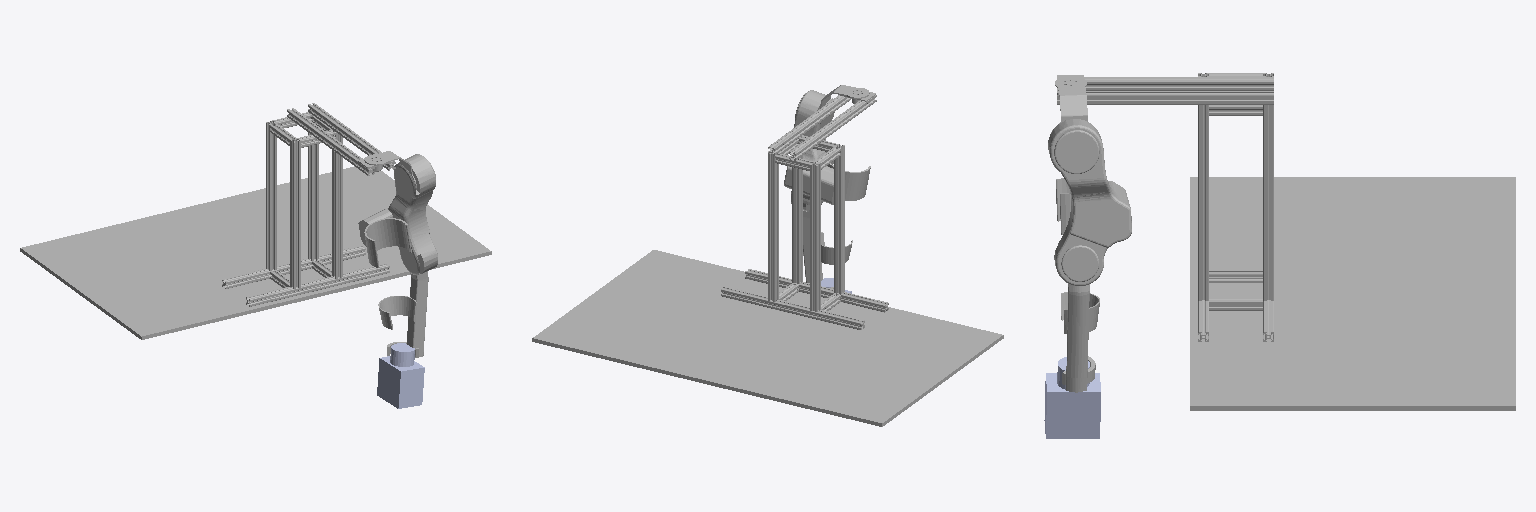
The robot description file, URDF, robot "rehab_arm_robot":
<?xml version="1.0" encoding="utf-8"?>
<!-- This URDF was automatically created by SolidWorks to URDF Exporter! Originally created by [author] ([email redacted]) 
     Commit Version: 1.6.0-4-g7f85cfe  Build Version: 1.6.7995.38578
     For more information, please see http://wiki.ros.org/sw_urdf_exporter -->
<robot
  name="rehab_arm_robot">
  <link
    name="base_link">
    <inertial>
      <origin
        xyz="0.029788 -0.044895 -0.025928"
        rpy="0 0 0" />
      <mass
        value="6.6256" />
      <inertia
        ixx="0.18532"
        ixy="3.2441E-17"
        ixz="-6.848E-18"
        iyy="0.5053"
        iyz="1.2064E-17"
        izz="0.68358" />
    </inertial>
    <visual>
      <origin
        xyz="0 0 0"
        rpy="0 0 0" />
      <geometry>
        <mesh
          filename="package://rehab_arm_robot/meshes/base_link.STL" />
      </geometry>
      <material
        name="">
        <color
          rgba="0.75294 0.75294 0.75294 1" />
      </material>
    </visual>
    <collision>
      <origin
        xyz="0 0 0"
        rpy="0 0 0" />
      <geometry>
        <mesh
          filename="package://rehab_arm_robot/meshes/base_link.STL" />
      </geometry>
    </collision>
  </link>
  <link
    name="shoulder_link">
    <inertial>
      <origin
        xyz="-1.1102E-16 -0.057517 0.098111"
        rpy="0 0 0" />
      <mass
        value="0.050013" />
      <inertia
        ixx="9.5931E-05"
        ixy="-1.2282E-19"
        ixz="-2.1663E-19"
        iyy="6.7571E-05"
        iyz="-3.5649E-05"
        izz="4.7153E-05" />
    </inertial>
    <visual>
      <origin
        xyz="0 0 0"
        rpy="0 0 0" />
      <geometry>
        <mesh
          filename="package://rehab_arm_robot/meshes/shoulder_link.STL" />
      </geometry>
      <material
        name="">
        <color
          rgba="0.75294 0.75294 0.75294 1" />
      </material>
    </visual>
    <collision>
      <origin
        xyz="0 0 0"
        rpy="0 0 0" />
      <geometry>
        <mesh
          filename="package://rehab_arm_robot/meshes/shoulder_link.STL" />
      </geometry>
    </collision>
  </link>
  <joint
    name="base_joint"
    type="revolute">
    <origin
      xyz="0.0719496042388023 -0.541555143198902 0.267693516942176"
      rpy="-0.174532925199427 0 1.6460476242513" />
    <parent
      link="base_link" />
    <child
      link="shoulder_link" />
    <axis
      xyz="0 0.173648177666925 -0.984807753012209" />
    <limit
      lower="0"
      upper="0"
      effort="0"
      velocity="0" />
  </joint>
  <link
    name="upper_arm_link">
    <inertial>
      <origin
        xyz="-0.025772 0.09796 -0.11257"
        rpy="0 0 0" />
      <mass
        value="2.0719" />
      <inertia
        ixx="0.014827"
        ixy="-0.00117"
        ixz="-0.0011721"
        iyy="0.014917"
        iyz="-0.0019872"
        izz="0.0049095" />
    </inertial>
    <visual>
      <origin
        xyz="0 0 0"
        rpy="0 0 0" />
      <geometry>
        <mesh
          filename="package://rehab_arm_robot/meshes/upper_arm_link.STL" />
      </geometry>
      <material
        name="">
        <color
          rgba="0.75294 0.75294 0.75294 1" />
      </material>
    </visual>
    <collision>
      <origin
        xyz="0 0 0"
        rpy="0 0 0" />
      <geometry>
        <mesh
          filename="package://rehab_arm_robot/meshes/upper_arm_link.STL" />
      </geometry>
    </collision>
  </link>
  <joint
    name="shoulder_joint"
    type="revolute">
    <origin
      xyz="0 0 0.0361684029192207"
      rpy="0 0.0173771635808177 -3.14159265358979" />
    <parent
      link="shoulder_link" />
    <child
      link="upper_arm_link" />
    <axis
      xyz="0 1 0" />
    <limit
      lower="0"
      upper="0"
      effort="0"
      velocity="0" />
  </joint>
  <link
    name="lower_arm_link">
    <inertial>
      <origin
        xyz="-0.003833 0.062573 -0.14707"
        rpy="0 0 0" />
      <mass
        value="0.33023" />
      <inertia
        ixx="0.0010261"
        ixy="-4.3675E-06"
        ixz="2.0066E-06"
        iyy="0.00095783"
        iyz="-0.00018897"
        izz="0.00016101" />
    </inertial>
    <visual>
      <origin
        xyz="0 0 0"
        rpy="0 0 0" />
      <geometry>
        <mesh
          filename="package://rehab_arm_robot/meshes/lower_arm_link.STL" />
      </geometry>
      <material
        name="">
        <color
          rgba="0.75294 0.75294 0.75294 1" />
      </material>
    </visual>
    <collision>
      <origin
        xyz="0 0 0"
        rpy="0 0 0" />
      <geometry>
        <mesh
          filename="package://rehab_arm_robot/meshes/lower_arm_link.STL" />
      </geometry>
    </collision>
  </link>
  <joint
    name="elbow_joint"
    type="revolute">
    <origin
      xyz="0 0 -0.22"
      rpy="0 -0.033816 0" />
    <parent
      link="upper_arm_link" />
    <child
      link="lower_arm_link" />
    <axis
      xyz="0 1 0" />
    <limit
      lower="0"
      upper="0"
      effort="0"
      velocity="0" />
  </joint>
  <link
    name="fake_hand_link">
    <inertial>
      <origin
        xyz="0 -0.086168 -3.3307E-16"
        rpy="0 0 0" />
      <mass
        value="0.8131" />
      <inertia
        ixx="0.0016843"
        ixy="-1.9111E-19"
        ixz="-1.4671E-18"
        iyy="0.00092006"
        iyz="-1.584E-18"
        izz="0.0013868" />
    </inertial>
    <visual>
      <origin
        xyz="0 0 0"
        rpy="0 0 0" />
      <geometry>
        <mesh
          filename="package://rehab_arm_robot/meshes/fake_hand_link.STL" />
      </geometry>
      <material
        name="">
        <color
          rgba="0.79216 0.81961 0.93333 1" />
      </material>
    </visual>
    <collision>
      <origin
        xyz="0 0 0"
        rpy="0 0 0" />
      <geometry>
        <mesh
          filename="package://rehab_arm_robot/meshes/fake_hand_link.STL" />
      </geometry>
    </collision>
  </link>
  <joint
    name="wrist_joint"
    type="revolute">
    <origin
      xyz="0.00049921 0.0106 -0.21838"
      rpy="1.5616 0.26164 1.5354" />
    <parent
      link="lower_arm_link" />
    <child
      link="fake_hand_link" />
    <axis
      xyz="0 1 0" />
    <limit
      lower="0"
      upper="0"
      effort="0"
      velocity="0" />
  </joint>
  
  <link name="world"/>
  <joint name="world_dummy_joint" type="fixed">
    <origin xyz="0 0 0" rpy="0 0 0" />
    <parent link="world" />
    <child link="dummy_link" />
  </joint>
  <link name="dummy_link"/>
  <joint name="dummy_base_joint" type="fixed">
    <origin xyz="0 0 0" rpy="0 0 0" />
    <parent link="dummy_link" />
    <child link="base_link" />
  </joint>
  
</robot>

--- Render facts (derived) ---
3 views of the same robot in one strip: view 1: azimuth 30°, elevation 25°; view 2: azimuth 150°, elevation 25°; view 3: azimuth 270°, elevation 25° (orthographic).
Model rehab_arm_robot with 7 links and 6 joints (4 revolute, 2 fixed), rooted at world, posed all joints at 0.
Links seen in each view (by area): view 1: base_link, upper_arm_link, fake_hand_link, lower_arm_link; view 2: base_link, upper_arm_link, lower_arm_link; view 3: base_link, upper_arm_link, fake_hand_link, lower_arm_link, shoulder_link.
Link boxes in pixels (x1=…): base_link: x1=20, y1=103, x2=491, y2=339; upper_arm_link: x1=358, y1=154, x2=437, y2=274; fake_hand_link: x1=377, y1=343, x2=424, y2=408; lower_arm_link: x1=378, y1=271, x2=428, y2=357; base_link: x1=532, y1=92, x2=1003, y2=426; upper_arm_link: x1=784, y1=90, x2=870, y2=211; lower_arm_link: x1=803, y1=210, x2=852, y2=288; base_link: x1=1057, y1=73, x2=1515, y2=410; upper_arm_link: x1=1048, y1=119, x2=1131, y2=285; fake_hand_link: x1=1044, y1=357, x2=1100, y2=438; lower_arm_link: x1=1061, y1=284, x2=1099, y2=392; shoulder_link: x1=1055, y1=76, x2=1087, y2=122.
Size in the robot's own frame: 1 by 0.8687 by 0.6785 metres.
5 mesh visuals loaded from 5 distinct referenced files (5 binary STL).